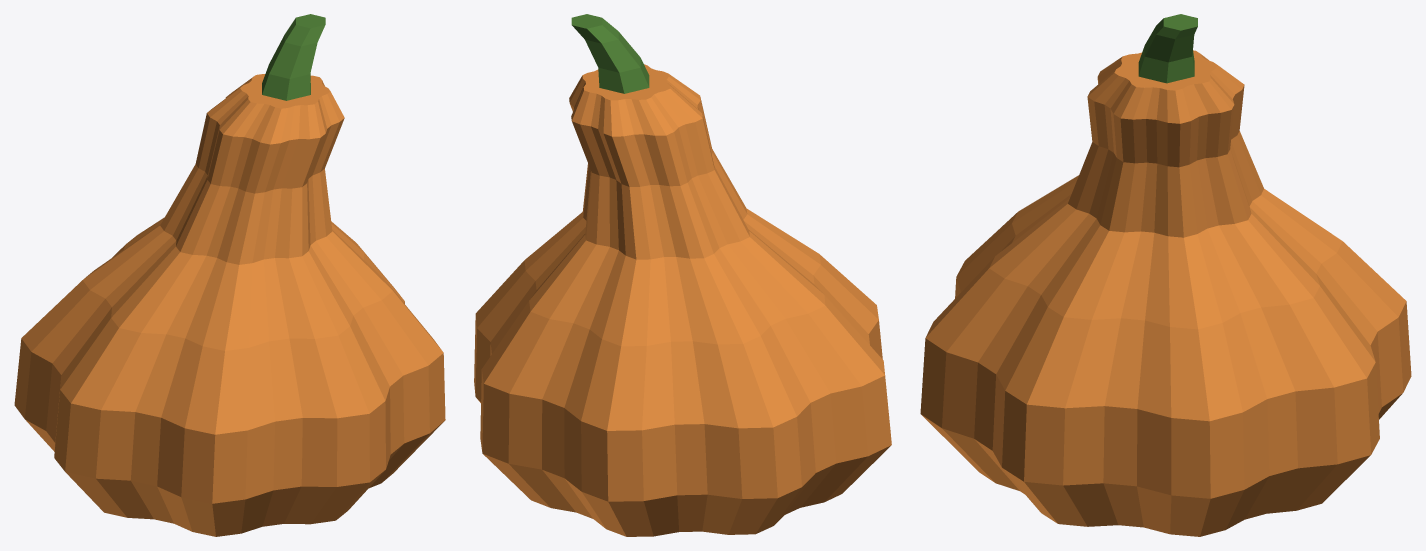
Rendered from HarvestPumpkinGourd.glb.
3 renders of one model, left to right at view 1: azimuth 30°, elevation 25°; view 2: azimuth 150°, elevation 25°; view 3: azimuth 270°, elevation 25°, orthographic. The views are drawn at different scales.
Parts seen in each view (by area): view 1: HarvestPumpkinGourd_Body, HarvestPumpkinGourd_Stem; view 2: HarvestPumpkinGourd_Body, HarvestPumpkinGourd_Stem; view 3: HarvestPumpkinGourd_Body, HarvestPumpkinGourd_Stem.
Boxes of the visible parts, x1=… form: HarvestPumpkinGourd_Body: x1=14, y1=74, x2=445, y2=536; HarvestPumpkinGourd_Stem: x1=262, y1=14, x2=325, y2=100; HarvestPumpkinGourd_Body: x1=474, y1=64, x2=891, y2=536; HarvestPumpkinGourd_Stem: x1=571, y1=14, x2=649, y2=93; HarvestPumpkinGourd_Body: x1=920, y1=50, x2=1411, y2=536; HarvestPumpkinGourd_Stem: x1=1138, y1=14, x2=1197, y2=83.
Size of the model in its own units: 0.4624 by 0.537 by 0.4624.
